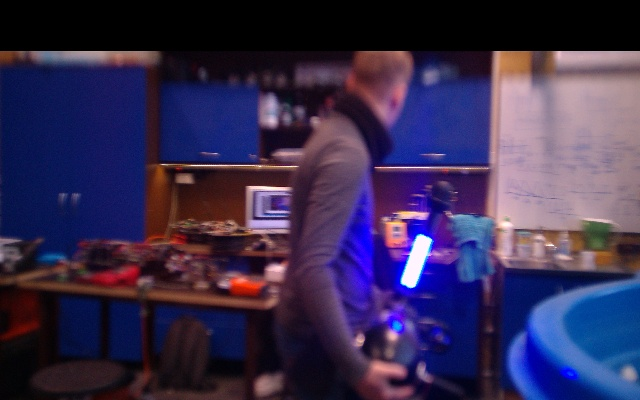blue: (400, 234, 435, 290)
